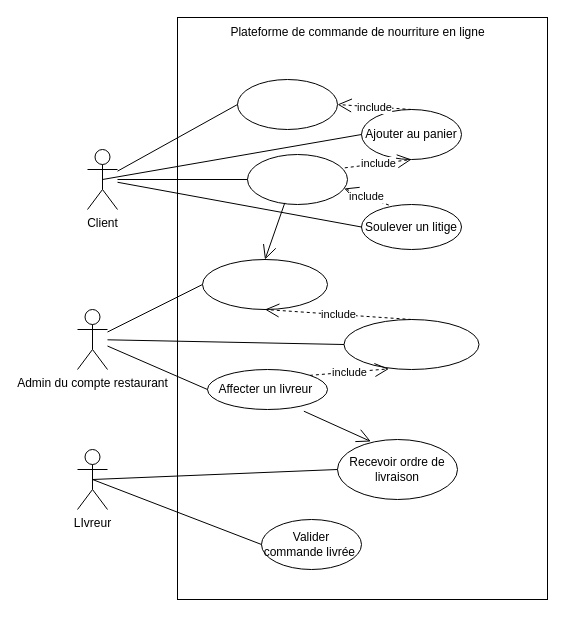
Some shapes in this 565 by 617 pixel diagram are drawn without their labels. Each missing label, with the centre of its shape:
"Accepter commande" belongs at [411,344].
"Passer la commande" belongs at [297,179].
"Recevoir ordre de commande ou un litige" belongs at [265,284].
"s'authentifier" belongs at [287,104].
